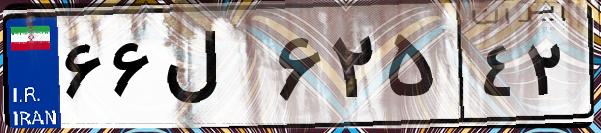2: (330, 28, 385, 110), (525, 38, 570, 115)
4: (475, 38, 525, 113)
5: (385, 28, 445, 110)
6: (270, 28, 330, 110), (57, 26, 110, 100), (110, 28, 158, 98)
ل: (158, 20, 270, 120)
